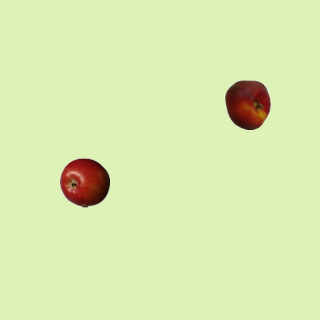Apple Braeburn: (59, 157, 109, 207)
Nectarine Flat: (222, 79, 272, 129)
